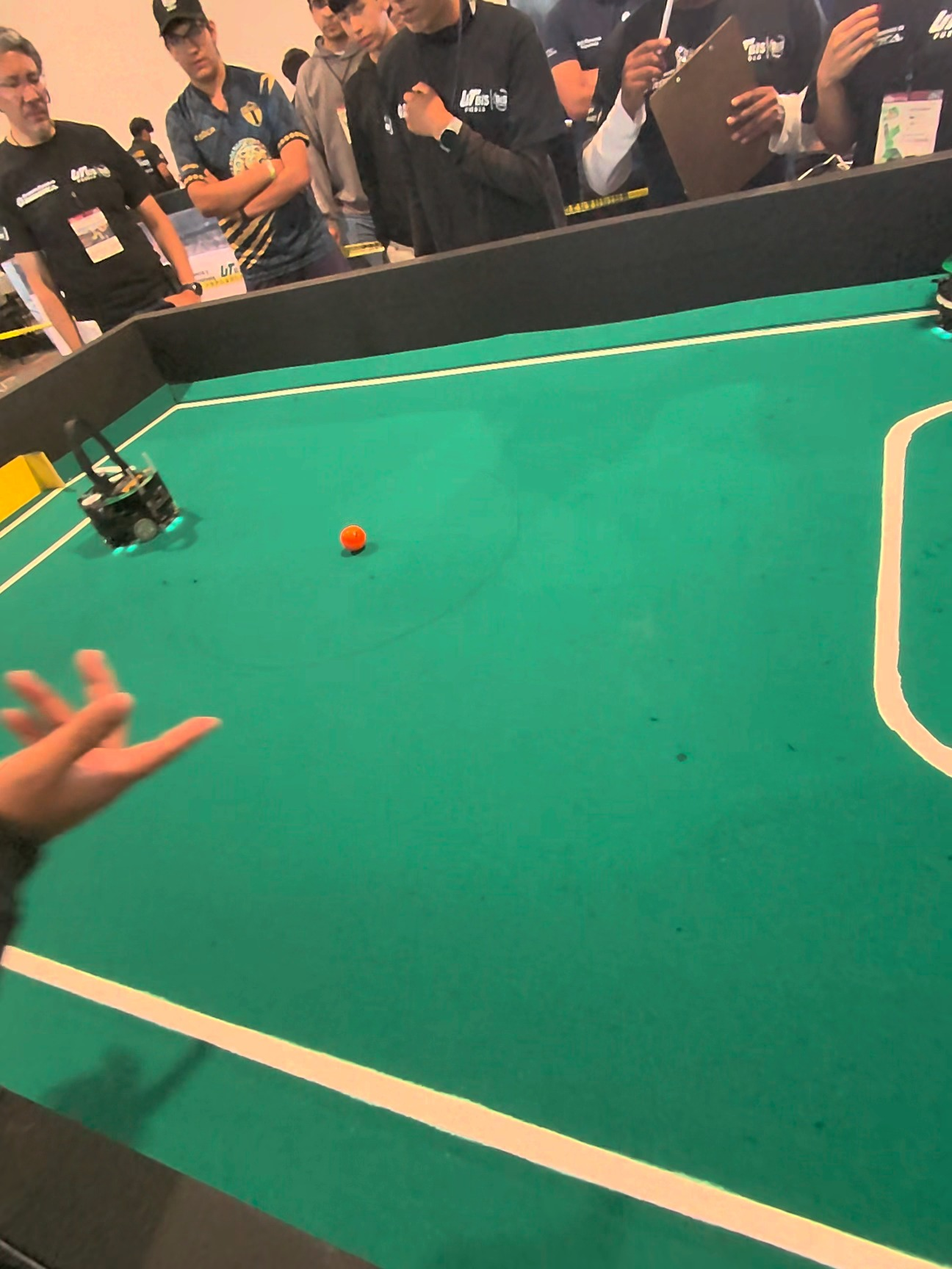Robot: (74, 437, 192, 549), (928, 217, 952, 354)
pelota: (343, 532, 363, 559)
